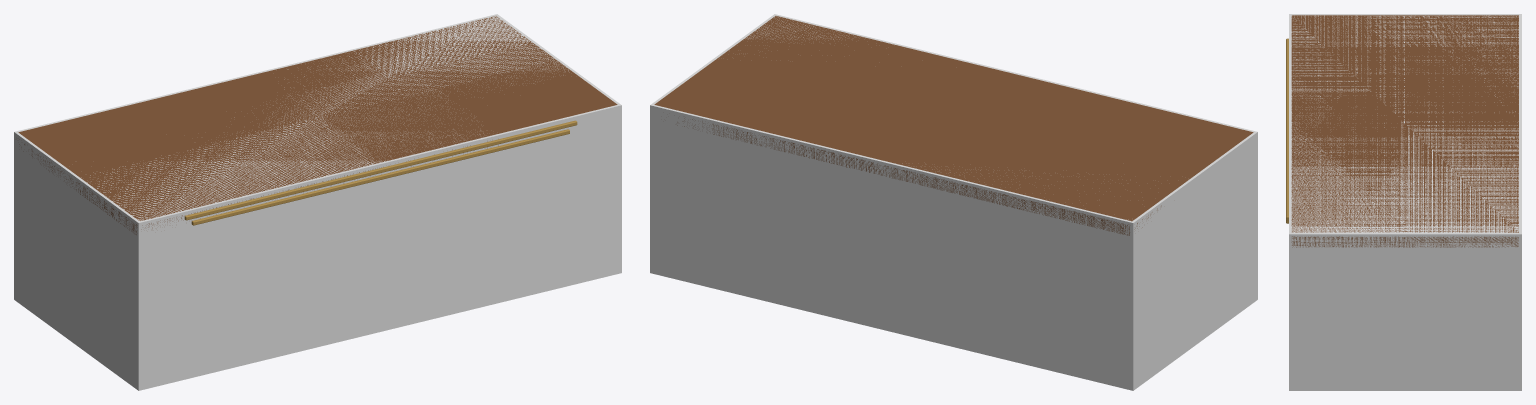
File: conference-table_luxury.glb
The picture shows the model from 3 angles, left to right: view 1: azimuth 30°, elevation 25°; view 2: azimuth 150°, elevation 25°; view 3: azimuth 270°, elevation 25°; orthographic projection. The views are drawn at different scales.
Parts seen in each view (by area): view 1: COL_conference-table, MESH_Top, MESH_TierTrim_01, MESH_TierTrim_02; view 2: COL_conference-table, MESH_Top; view 3: COL_conference-table, MESH_Top, MESH_TierTrim_01.
Part boxes in pixels (left/top/right/bottom): COL_conference-table: left=14, top=14, right=621, bottom=390; MESH_Top: left=18, top=16, right=617, bottom=234; MESH_TierTrim_01: left=184, top=120, right=577, bottom=220; MESH_TierTrim_02: left=191, top=129, right=569, bottom=225; COL_conference-table: left=650, top=14, right=1257, bottom=390; MESH_Top: left=654, top=16, right=1253, bottom=235; COL_conference-table: left=1289, top=14, right=1521, bottom=390; MESH_Top: left=1291, top=15, right=1518, bottom=247; MESH_TierTrim_01: left=1286, top=38, right=1288, bottom=220.
Size of the model in its own units: 2.35 by 0.78 by 1.06.
